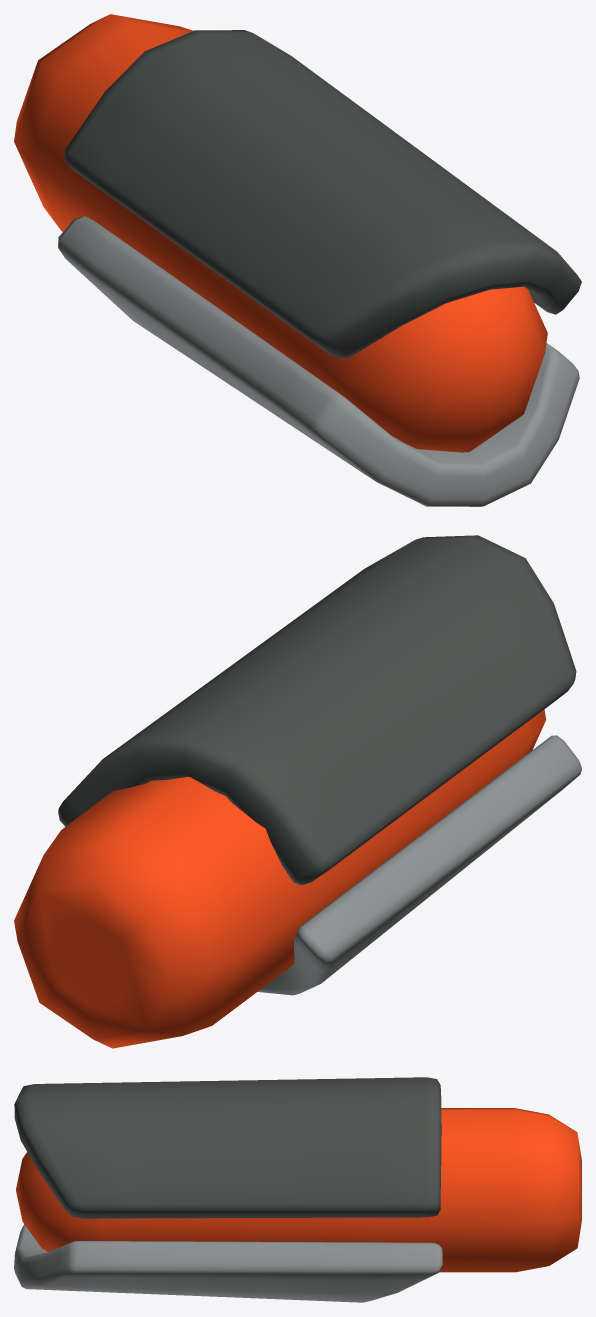
Rendered from xsens_RightFourthPP.dae.
The picture shows the model from 3 angles, top to bottom: view 1: azimuth 30°, elevation 25°; view 2: azimuth 150°, elevation 25°; view 3: azimuth 270°, elevation 25°; orthographic projection. The views are drawn at different scales.
Visible parts, largest first — view 1: RightFourthPP; view 2: RightFourthPP; view 3: RightFourthPP.
Part boxes in pixels (bbox=[...]): RightFourthPP: bbox=[14, 14, 581, 506]; RightFourthPP: bbox=[14, 535, 581, 1048]; RightFourthPP: bbox=[14, 1077, 581, 1302].
Bounding box in the file's own units: 0.019 × 0.0475 × 0.0189.
